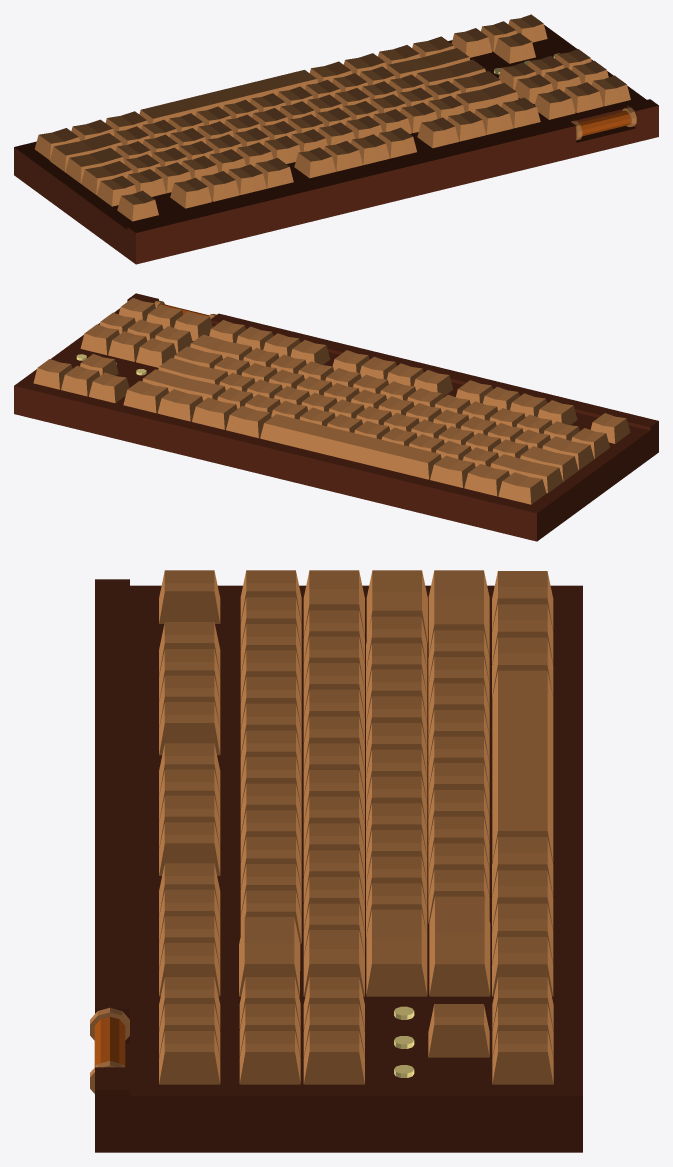
The model's file is Keyboard 5.fbx.
3 renders of one model, top to bottom at view 1: azimuth 30°, elevation 25°; view 2: azimuth 150°, elevation 25°; view 3: azimuth 270°, elevation 25°, orthographic. The views are drawn at different scales.
Visible parts, largest first — view 1: Node 0; view 2: Node 0; view 3: Node 0.
Part boxes in pixels (<box>): Node 0: <box>14,14,658,264</box>; Node 0: <box>14,293,658,541</box>; Node 0: <box>90,570,582,1152</box>.
Bounding box in the file's own units: 0.2354 × 0.0456 × 0.5766.
